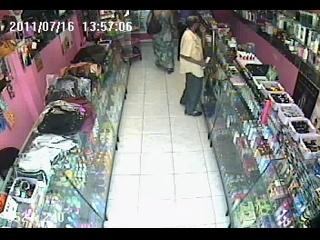Normal: (178, 15, 210, 117), (148, 11, 178, 74)
